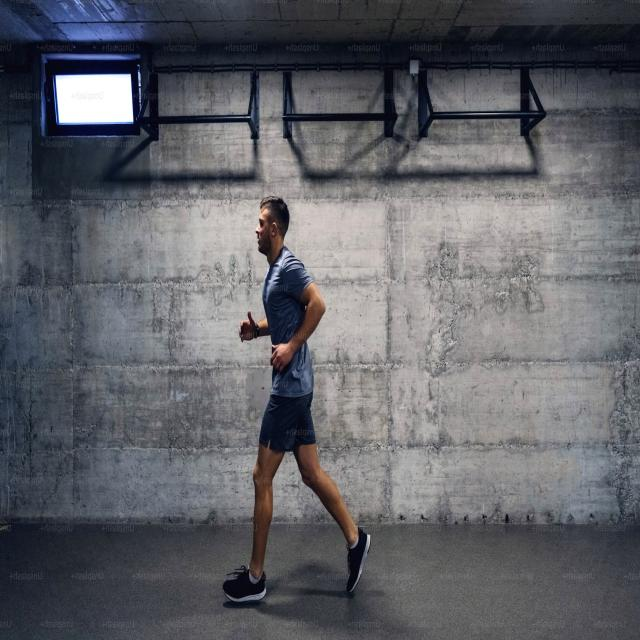adult: (223, 198, 373, 600)
